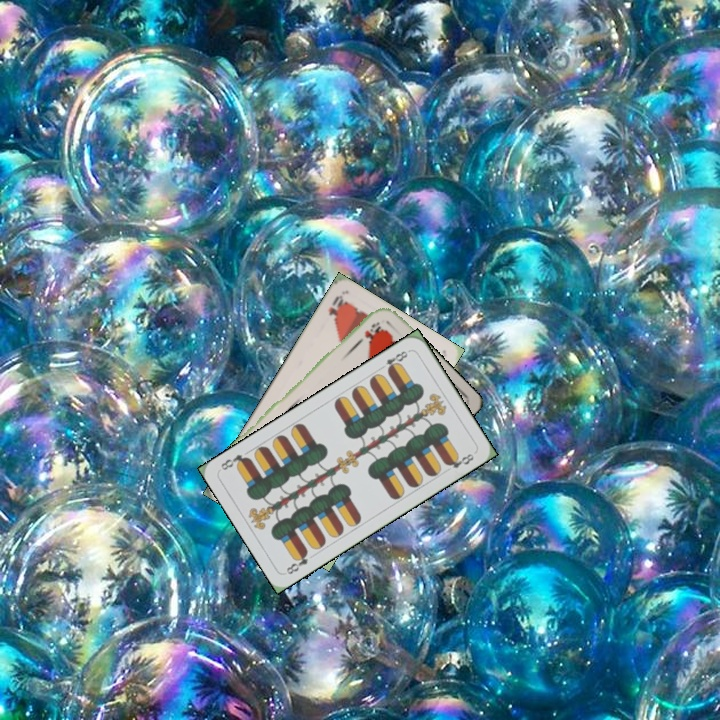E8: (376, 346, 412, 375), (282, 547, 311, 577)
HO: (352, 317, 383, 348), (324, 291, 348, 323)
